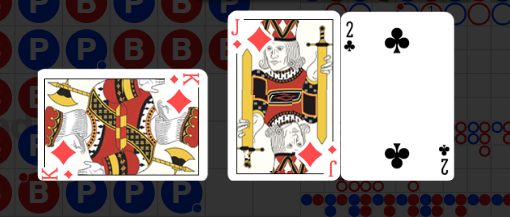2C: (437, 142, 451, 176)
KD: (168, 71, 201, 85)
